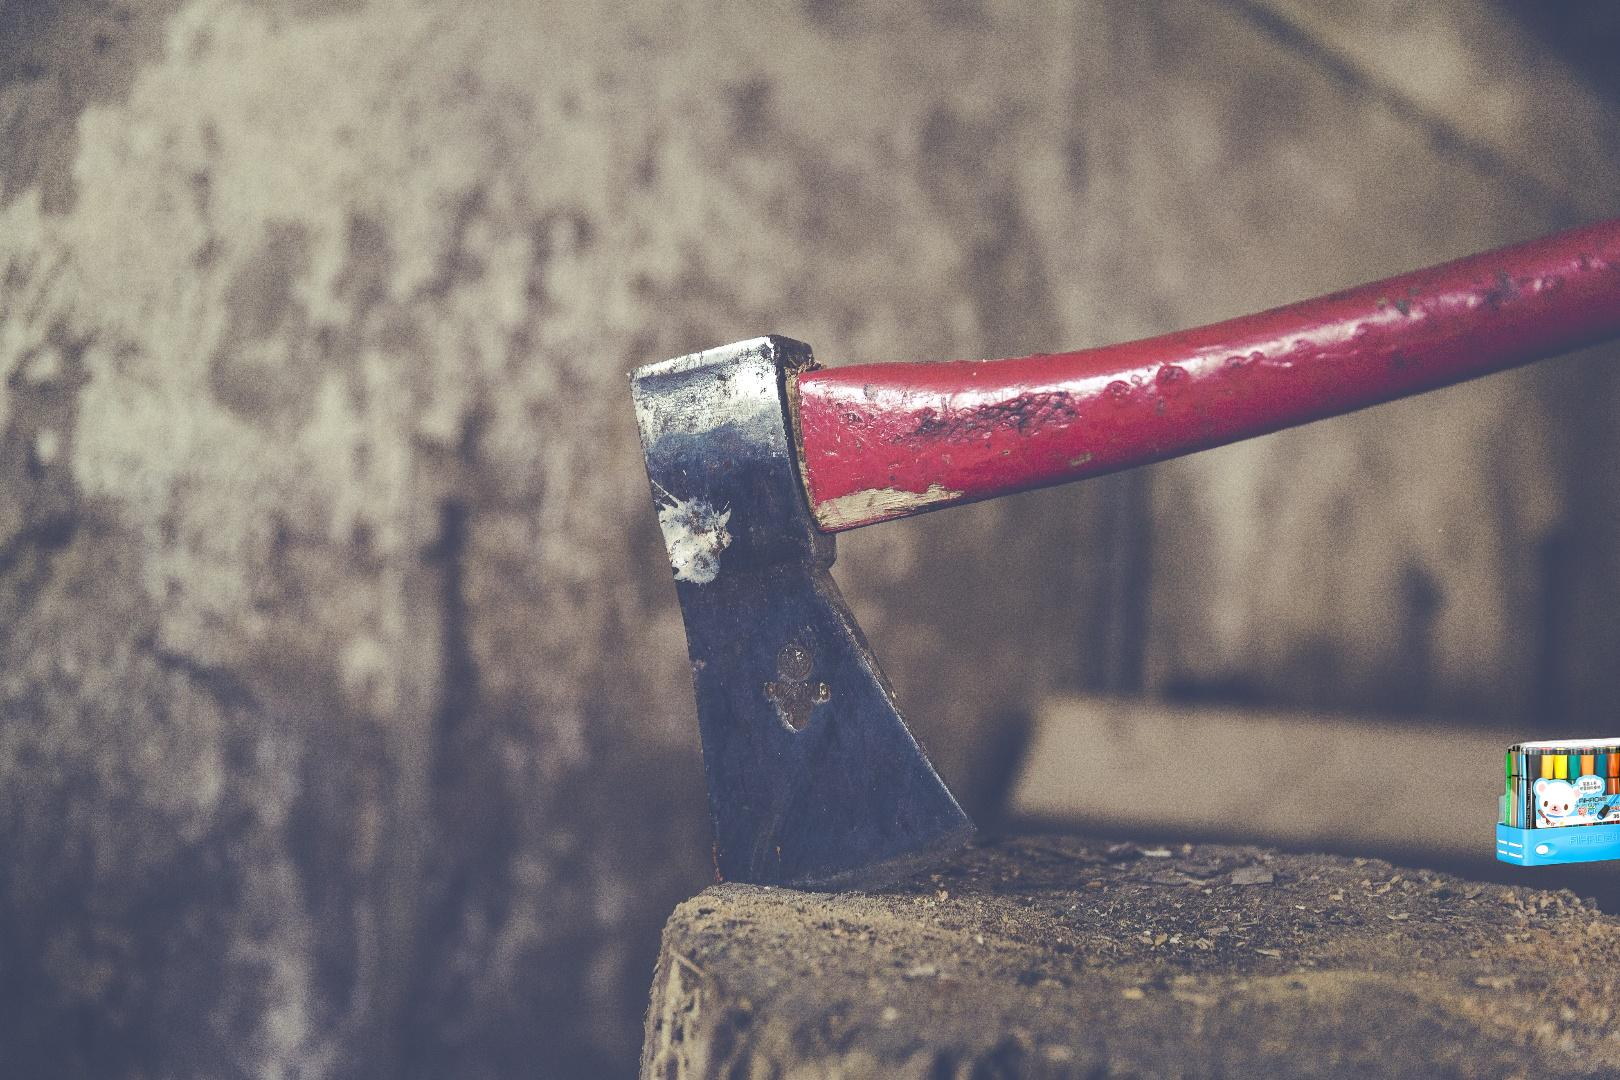penholder: (1493, 733, 1620, 870)
